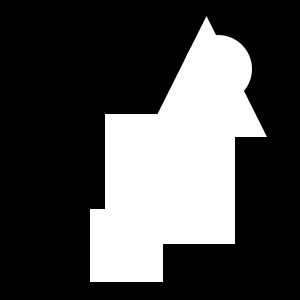circle: (105, 114, 235, 244), (90, 209, 163, 282)
rectangle: (184, 35, 252, 103)
triangle: (146, 16, 267, 137)
